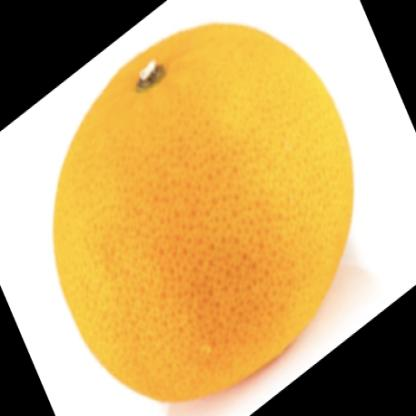fresh: (51, 24, 357, 408)
